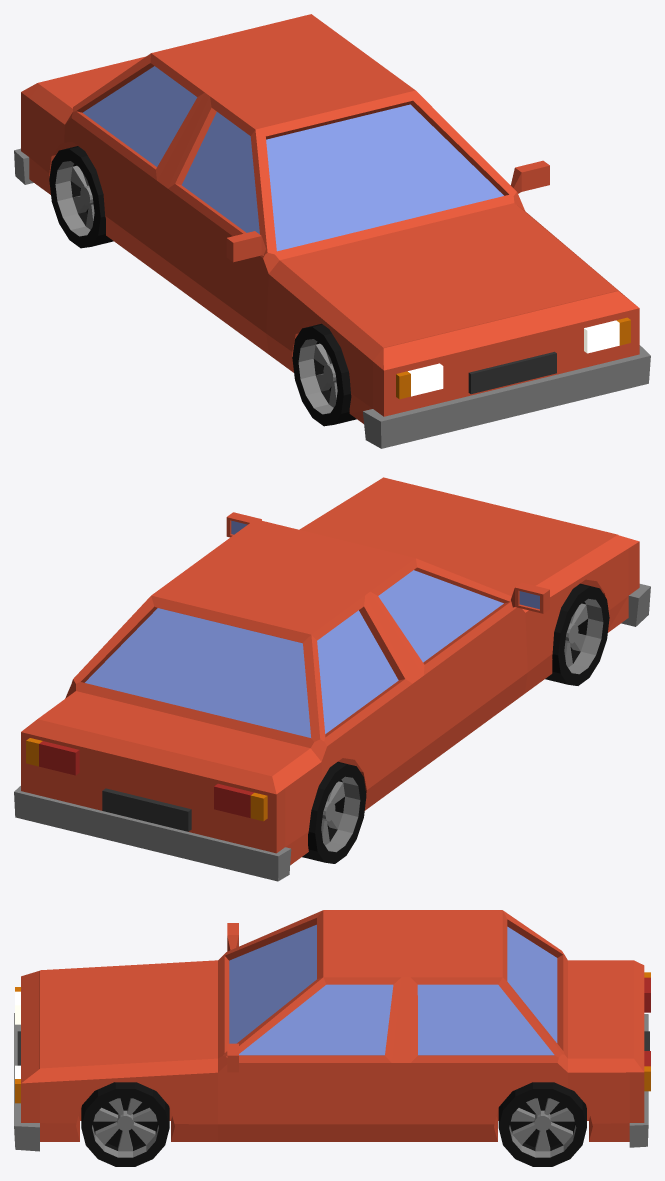
Rendered from car.glb.
3 renders of one model, top to bottom at view 1: azimuth 30°, elevation 25°; view 2: azimuth 150°, elevation 25°; view 3: azimuth 270°, elevation 25°, orthographic. The views are drawn at different scales.
Parts seen in each view (by area): view 1: Car, Wheels Front, Wheels Back, Lights Front, License Plate Front, Mirrors; view 2: Car, Wheels Front, Wheels Back, Lights Back, License Plate Back, Mirrors; view 3: Car, Wheels Front, Wheels Back, Mirrors, Lights Back, Lights Front.
Boxes of the visible parts, x1,y1,x2,y2 form: Car: (14, 14, 650, 448); Wheels Front: (292, 323, 356, 426); Wheels Back: (49, 146, 113, 248); Lights Front: (396, 317, 630, 399); License Plate Front: (468, 351, 556, 394); Mirrors: (226, 160, 549, 262); Car: (14, 477, 650, 881); Wheels Front: (545, 583, 609, 685); Wheels Back: (302, 761, 366, 863); Lights Back: (26, 738, 267, 821); License Plate Back: (102, 788, 191, 831); Mirrors: (226, 512, 549, 613); Car: (14, 910, 648, 1151); Wheels Front: (81, 1082, 169, 1166); Wheels Back: (498, 1082, 586, 1166); Mirrors: (227, 923, 238, 1072); Lights Back: (644, 972, 650, 1091); Lights Front: (15, 987, 20, 1103).
Size of the model in its own units: 3.23 by 1.9 by 6.55.
